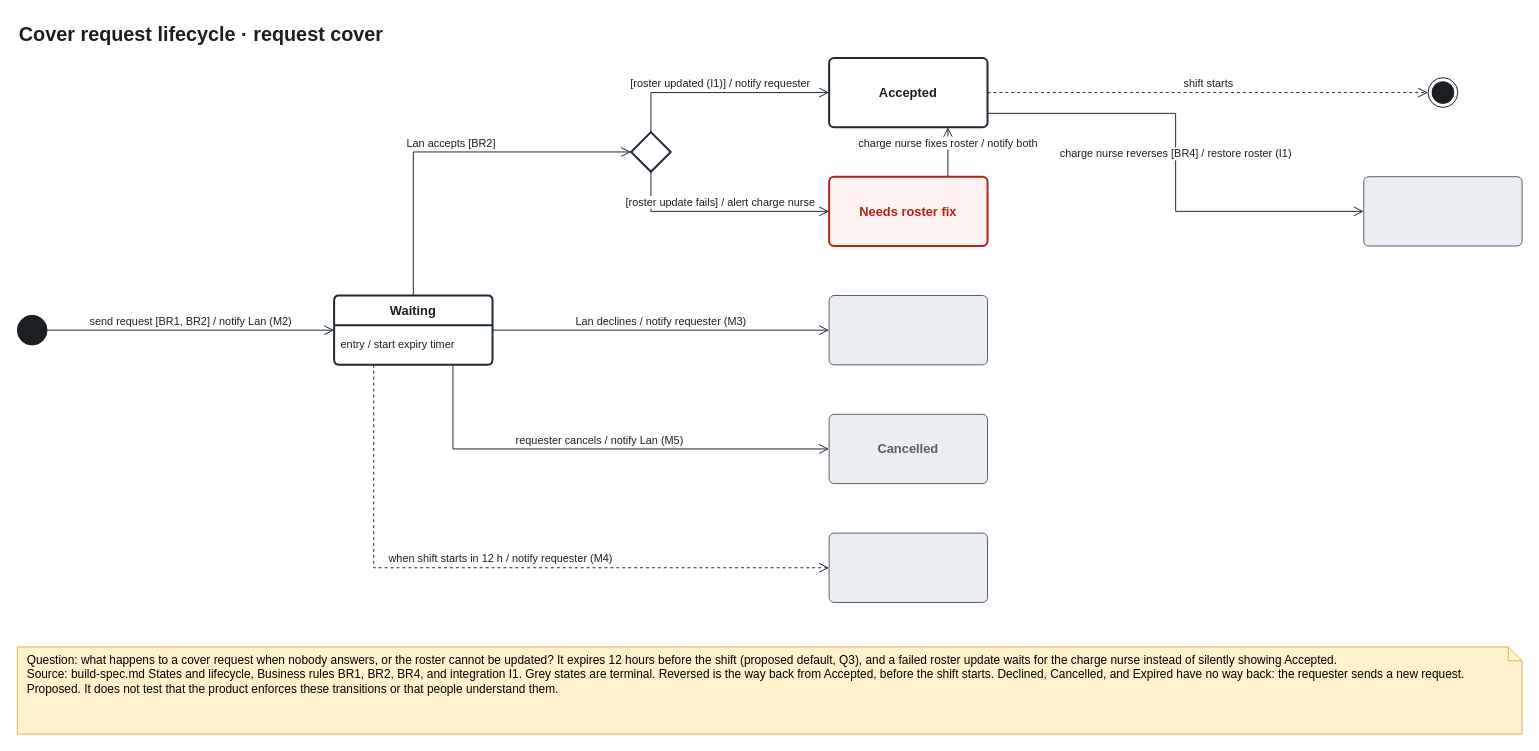
The diagram is 1539 pixels wide and 751 high, and some of its shapes have lost their labels. The centre of each missing label's shape, as x and y in pixels:
"Declined" goes at (x=908, y=330).
"Expired" goes at (x=908, y=567).
"Reversed" goes at (x=1442, y=211).
